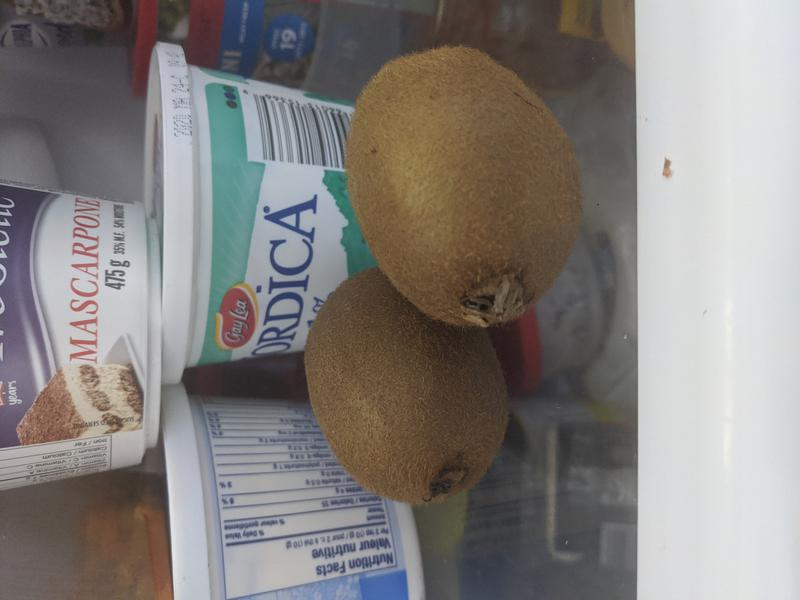kiwi: (344, 43, 584, 328), (303, 266, 511, 506)
